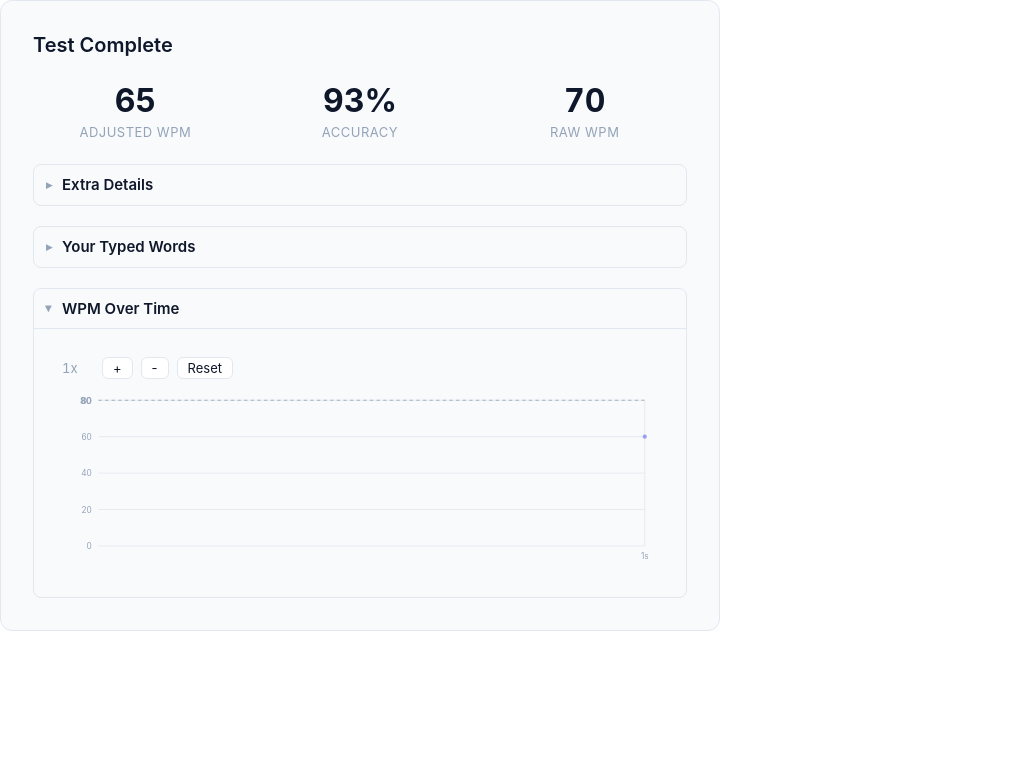
Test: ResultsDisplay › renders detailed word and speed stats when expanded
Click the button "▸ Extra Details" at (108, 184), box left=34, top=165, right=686, bottom=205
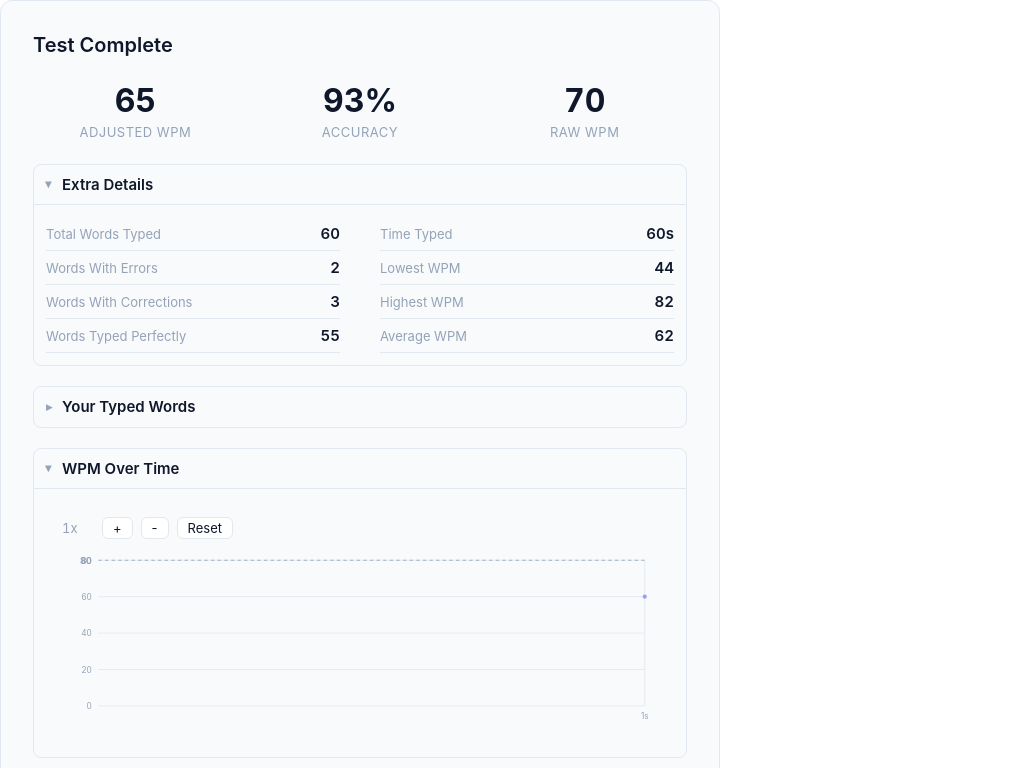
Now the text "Total Words Typed" is shown, box left=46, top=226, right=161, bottom=242
Now the text "Words With Errors" is shown, box left=46, top=260, right=158, bottom=276
Now the text "Words With Corrections" is shown, box left=46, top=294, right=192, bottom=310
